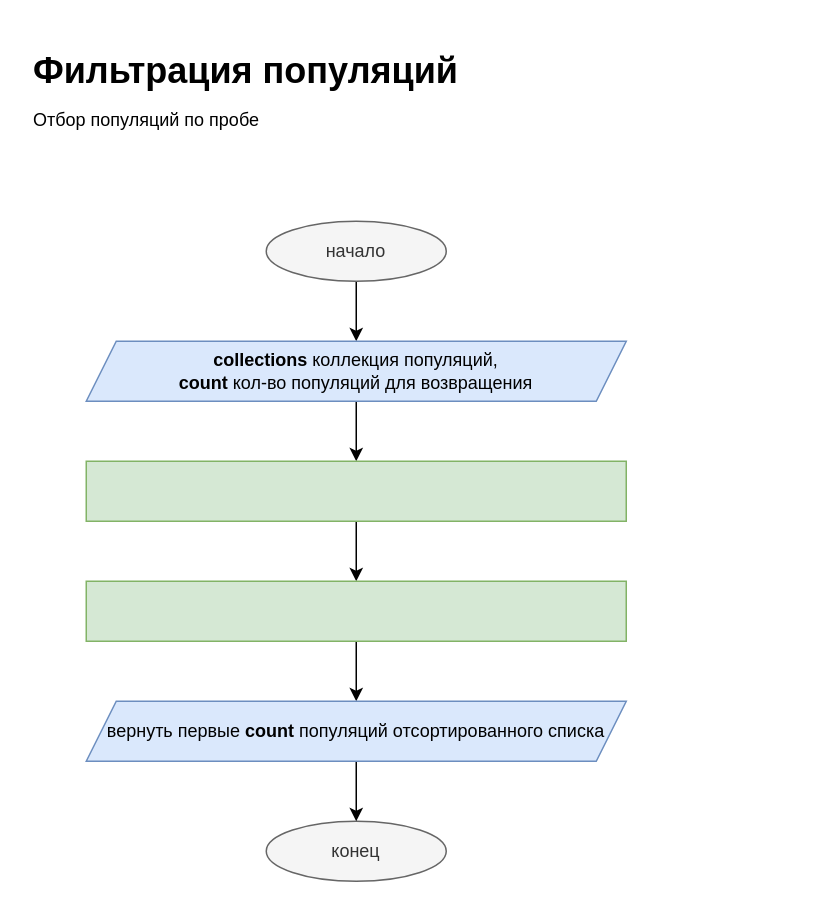
This 831x908 diagram has some shape labels left out. Each missing label, with the box of its shape:
Для каждой коллекции получить пробу: (85, 460, 626, 521)
Отсортировать коллекции по возрастанию пробы: (85, 580, 626, 641)
